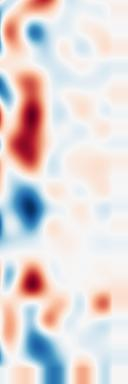filament: (7, 68, 55, 183)
